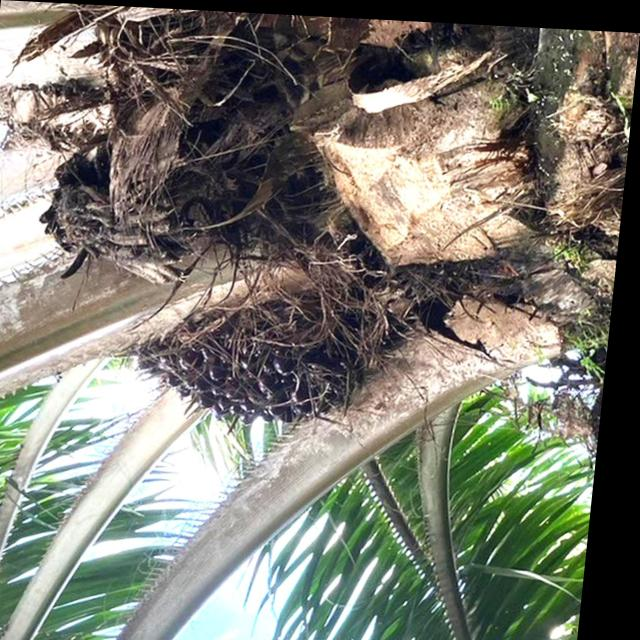ripe: (119, 266, 396, 445)
